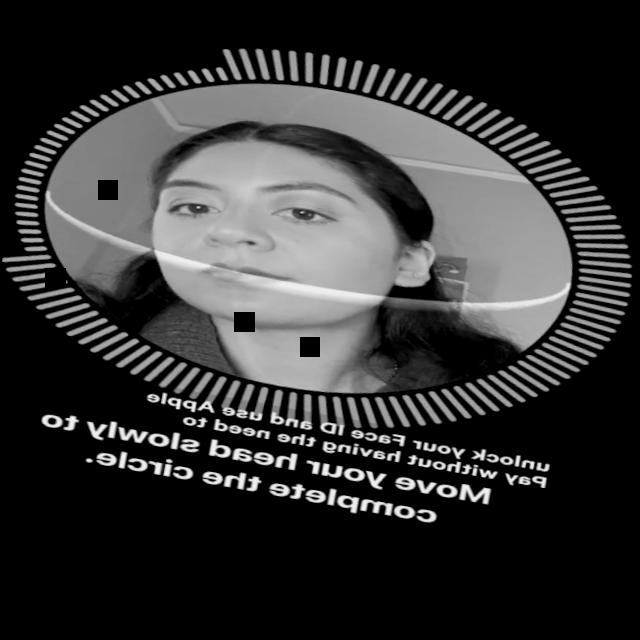NO-Mask: (125, 124, 437, 361)
